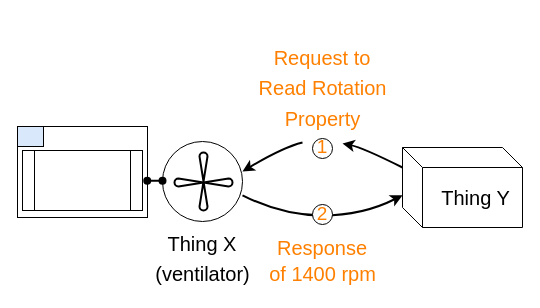
Image size: 540x308. Some labels were removed from this diagram. The centre of each missing label's shape, as x and y in pixels:
Rotation: [82,180]
TD: [30,136]
